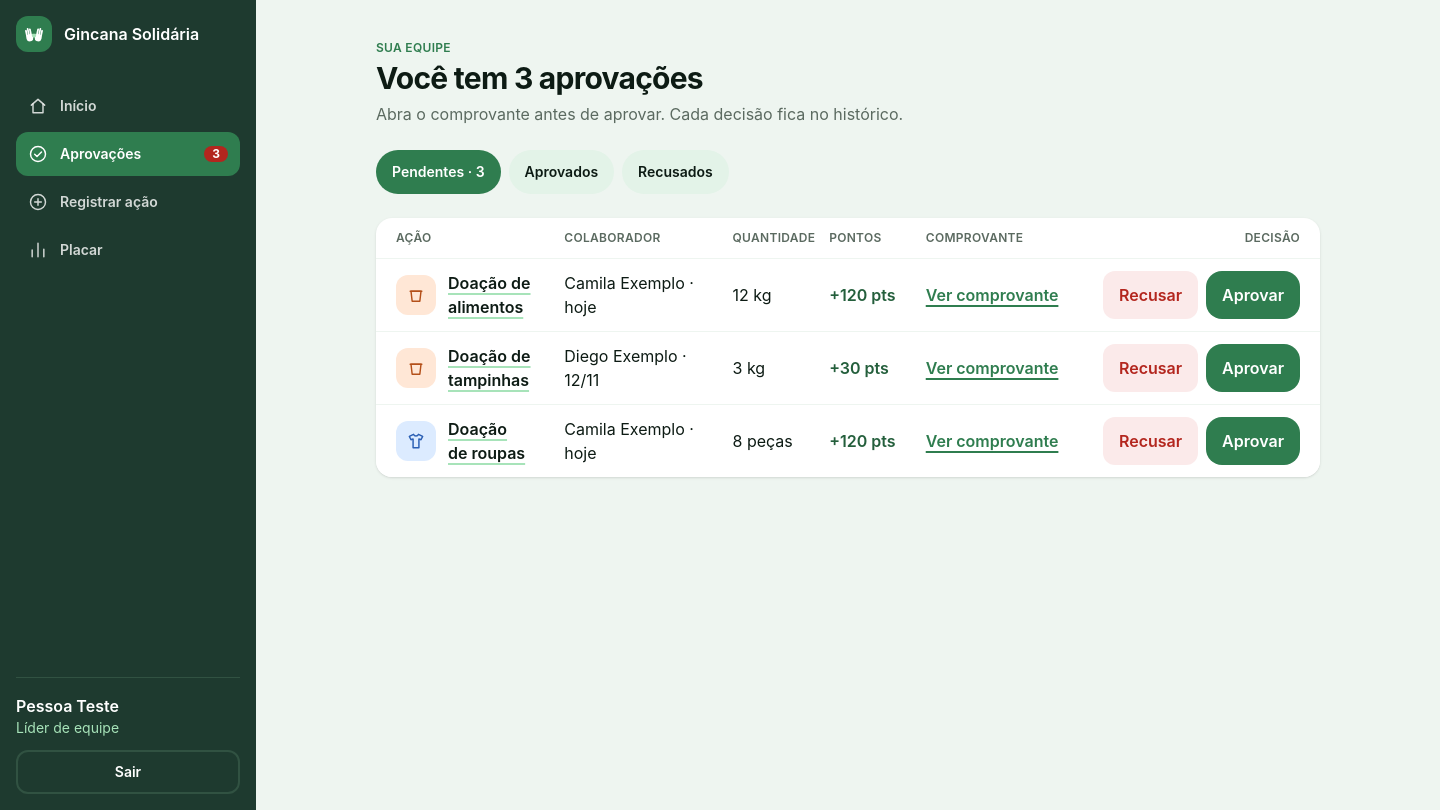
Fila de aprovações (US08) › aprovar › não deixa decidir duas vezes enquanto uma decisão está em andamento
This screenshot has width=1440, height=810.
Click the button with aria-label "Aprovar Doação de alimentos de Camila Exemplo".
click(1253, 294)  # box [1206,270,1300,318]
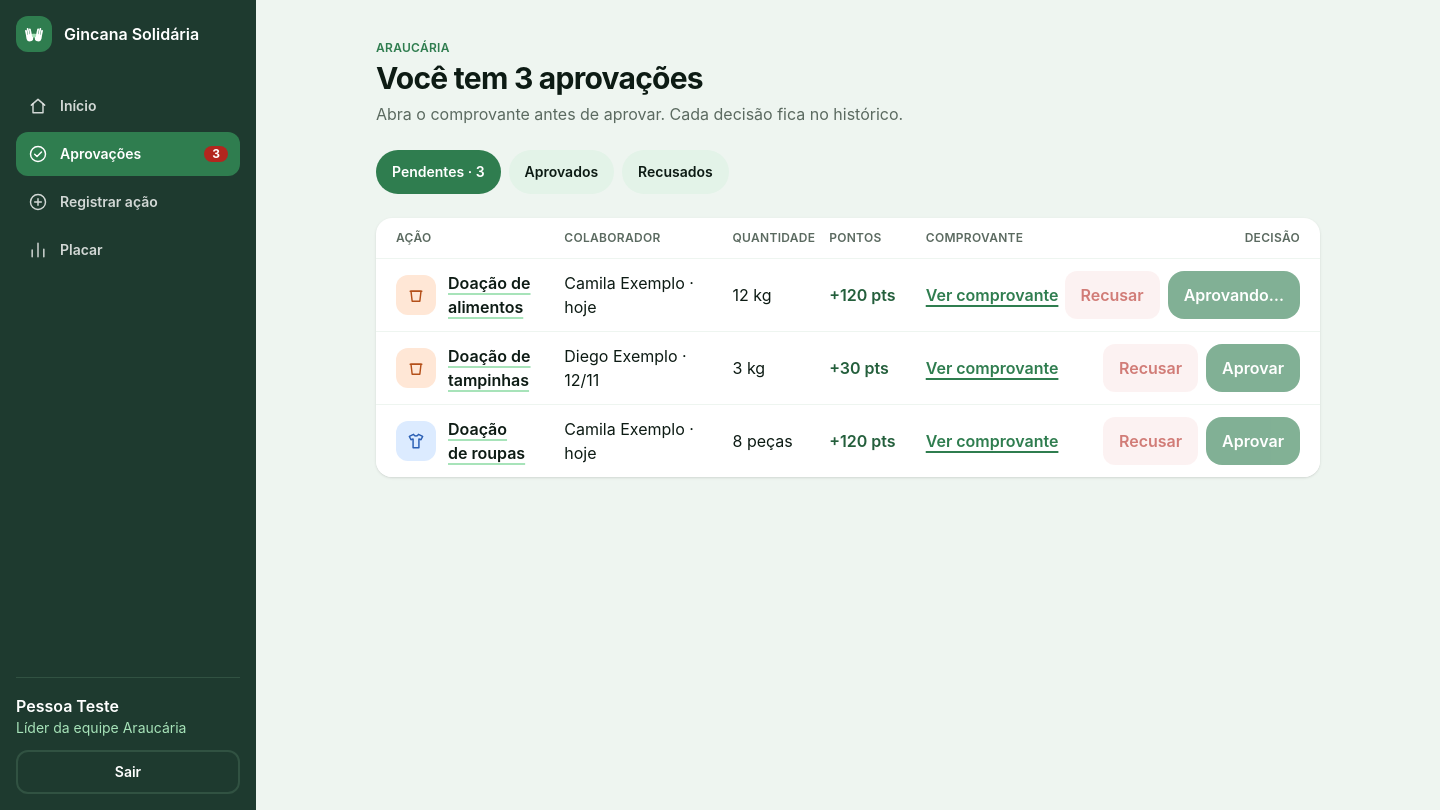
Result: the button with aria-label "aprovar doação de alimentos de camila" reads "Aprovando…" at [1168,270,1300,318]
Result: the button "Recusar" in the row of "Doação de alimentos" is disabled at [1064,270,1160,318]
Result: the button "Aprovando…" is disabled at [1168,270,1300,318]
Click the button with aria-label "Aprovar Doação de tampinhas de Diego Exemplo".
click(1253, 368)  # box [1206,344,1300,392]
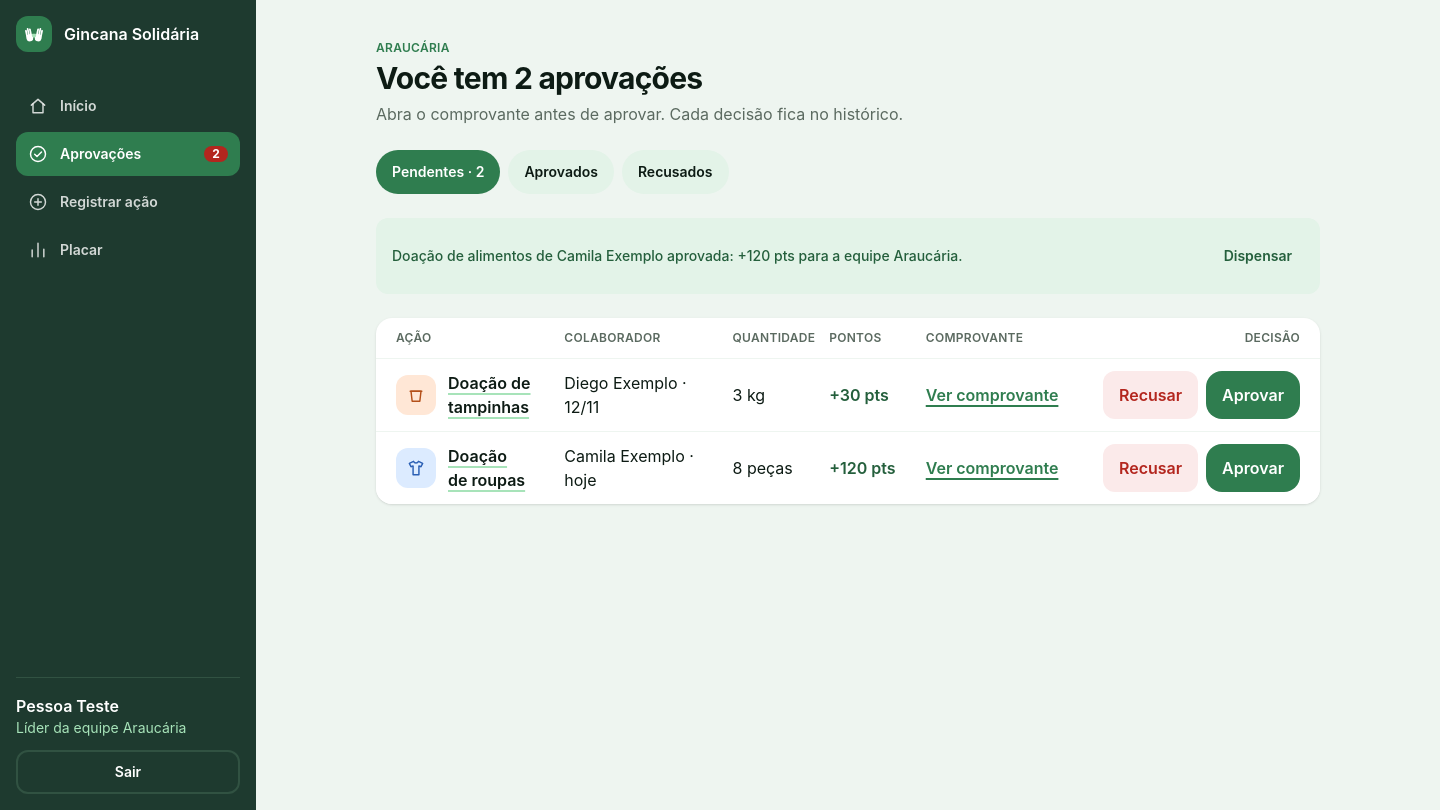
Result: the text "aprovada: +120 pts" is shown at [392,246,962,264]
